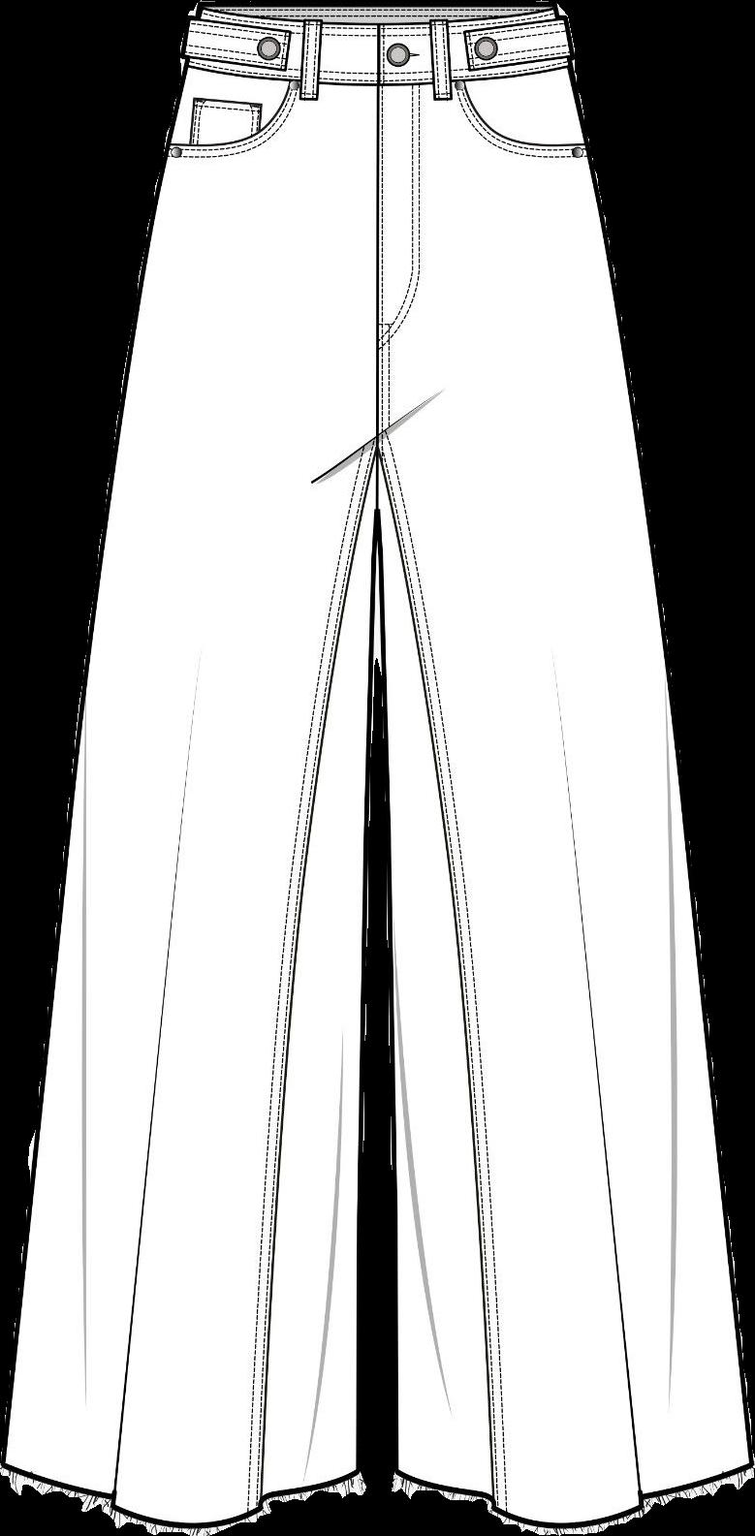Hemline: (2, 1458, 367, 1535), (393, 1458, 754, 1534)
Pantleg: (374, 4, 753, 1535), (0, 4, 379, 1527)
Waistline: (173, 51, 575, 99), (186, 0, 565, 38)
